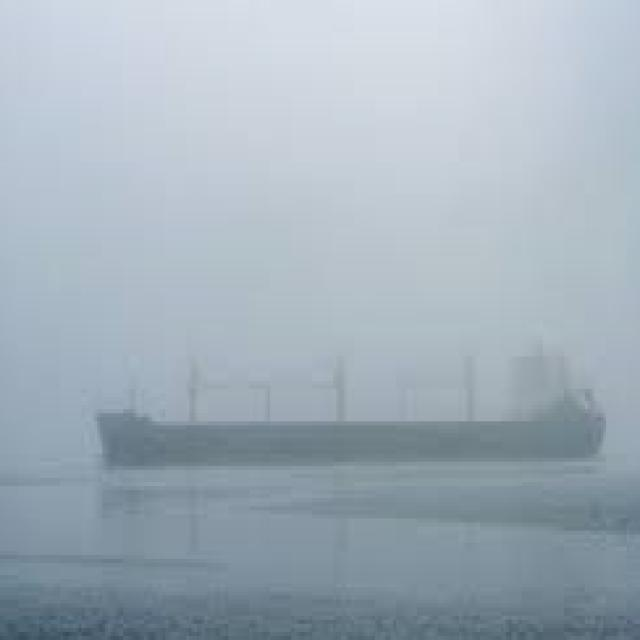cargoship: (99, 332, 603, 473)
